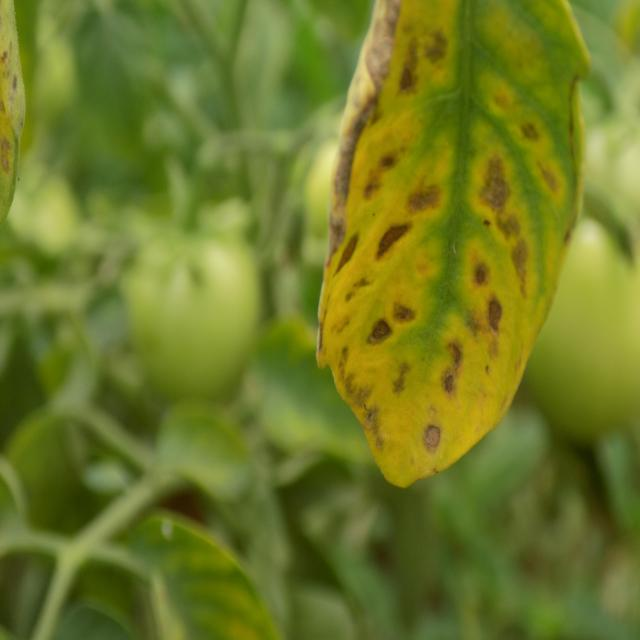tomato_early blight: (315, 0, 583, 485)
